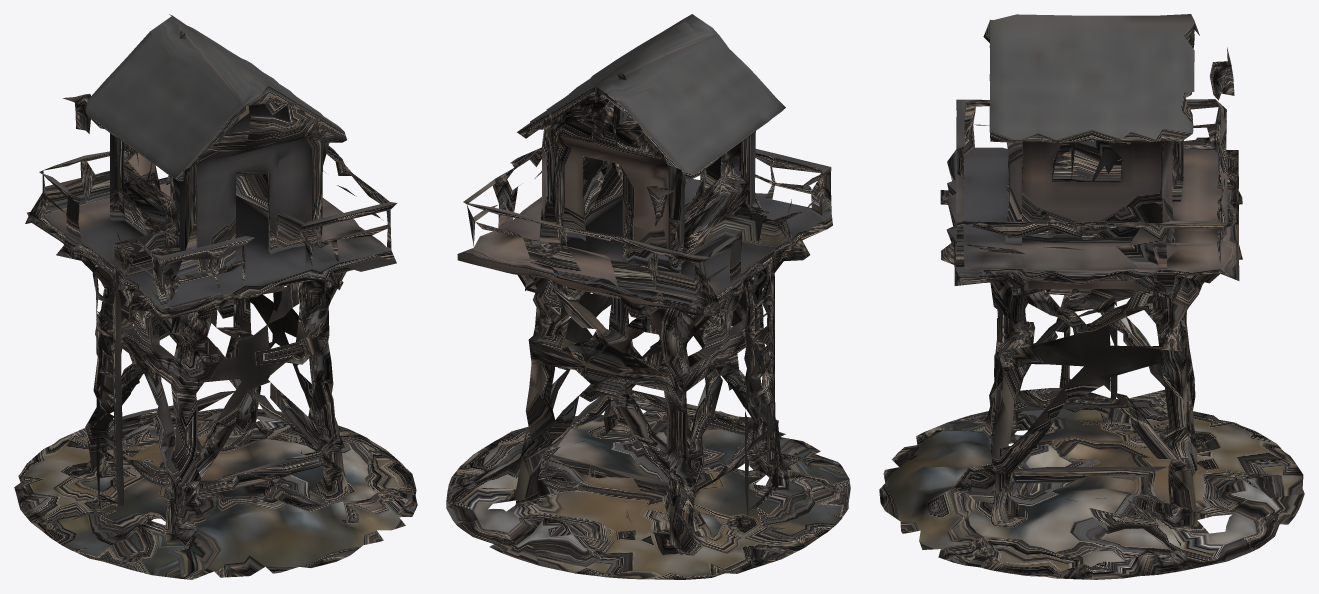
The model's file is wooden_watchtower.glb.
3 views of the same model, side by side, from view 1: azimuth 30°, elevation 25°; view 2: azimuth 150°, elevation 25°; view 3: azimuth 270°, elevation 25° (orthographic). The views are drawn at different scales.
Visible parts, largest first — view 1: body; view 2: body; view 3: body.
Part boxes in pixels (x1=…): body: x1=14, y1=14, x2=417, y2=579; body: x1=446, y1=14, x2=850, y2=579; body: x1=879, y1=14, x2=1304, y2=579.
Bounding box in the file's own units: 6.44 × 8.02 × 6.47.
1 material, 1 textured.
